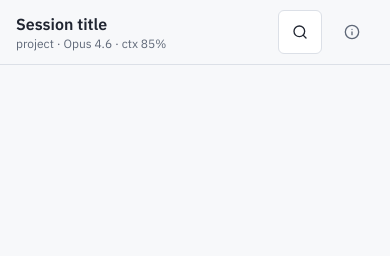
Test case: toggles the compact header details and exposes project, model and context
The image size is (390, 256).
Expected: the text "project · Opus 4.6 · ctx 85%" is shown, [16,36,166,51]
Click the button named "Session details" at x=352, y=32, box [330,10,374,54]
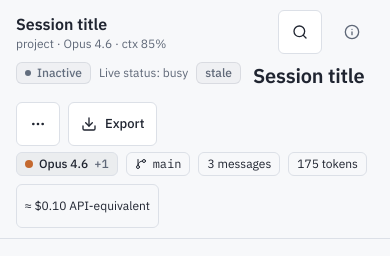
Expected: the header named "Session details" has attribute data-details-open
Click the button named "Session details" at x=352, y=32, box [330,10,374,54]
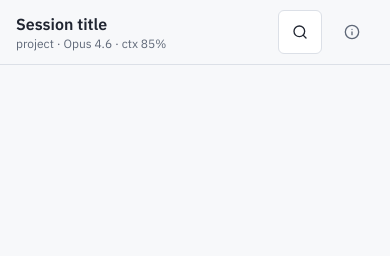
Expected: the header named "Session details" does not have attribute data-details-open, [0,0,389,65]
